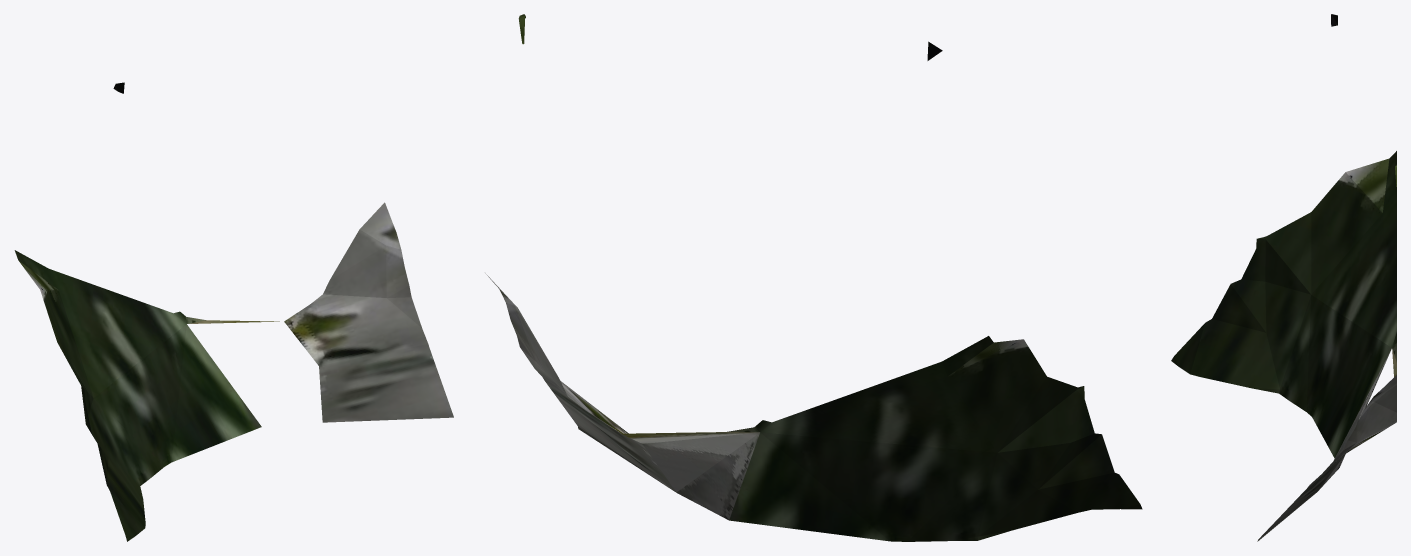
3 views of the same model, side by side, from view 1: azimuth 30°, elevation 25°; view 2: azimuth 150°, elevation 25°; view 3: azimuth 270°, elevation 25° (orthographic). The views are drawn at different scales.
Size of the model in its own units: 0.8373 by 0.8259 by 0.4413.
Materials: 2 (2 with a texture image).
